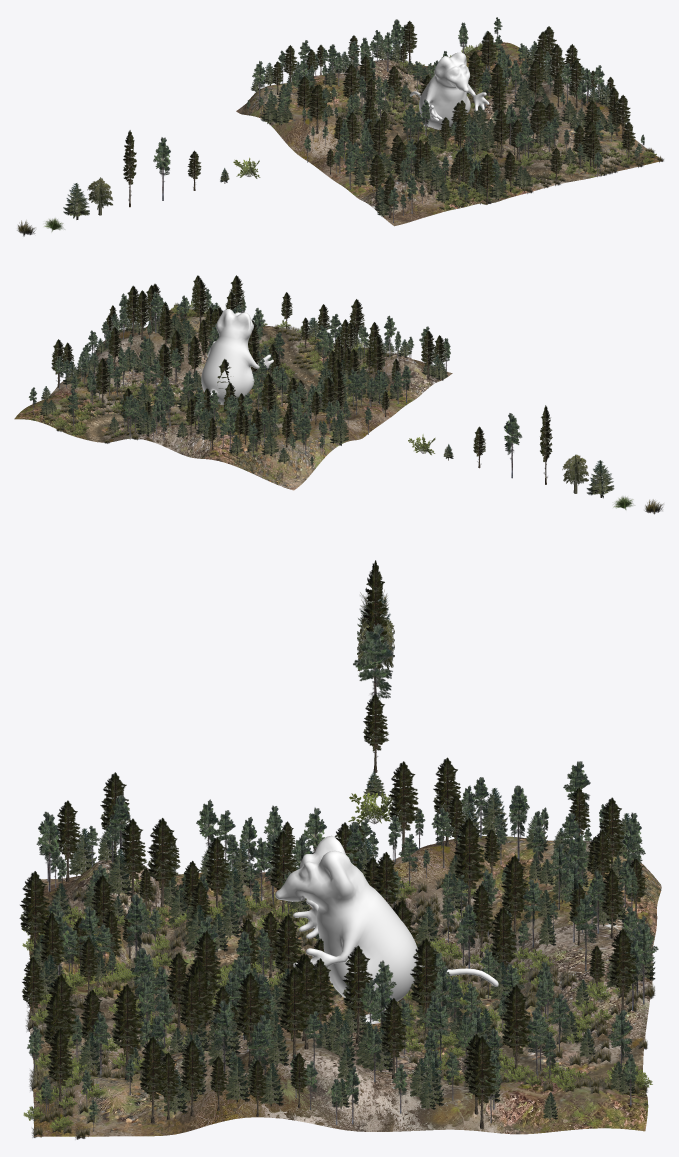
File: porject_test.glb
3 renders of one model, top to bottom at view 1: azimuth 30°, elevation 25°; view 2: azimuth 150°, elevation 25°; view 3: azimuth 270°, elevation 25°, orthographic. The views are drawn at different scales.
Visible parts, largest first — view 1: Plane.002, Group3152, Plane.005, Plane.006, Cylinder.001, 05ade0e713892be558511d706fa6c547-no-bg-preview (carve.photos, Cylinder.034, Cylinder.007, Cylinder.049, Cylinder.070, Cylinder.058, Cylinder.004 (+9 smaller); view 2: Plane.002, Group3152, Plane.006, Plane.005, Cylinder.001, 05ade0e713892be558511d706fa6c547-no-bg-preview (carve.photos, Cylinder.071, Cylinder.026, Cylinder.073, Cylinder.070, Cylinder.004, Cylinder.012 (+2 smaller); view 3: Plane.002, Group3152, 05ade0e713892be558511d706fa6c547-no-bg-preview (carve.photos (×2), Cylinder.077, Cylinder.026, Cylinder.071, Cylinder.012, Cylinder.007, Cylinder.070, Cylinder.085, Cylinder.034, Cylinder.058 (+28 smaller).
Part boxes in pixels (x1,y1,x2,y2): Plane.002: (236, 42, 662, 226); Group3152: (409, 52, 489, 129); Plane.005: (63, 183, 89, 219); Plane.006: (87, 177, 113, 215); Cylinder.001: (123, 130, 136, 207); 05ade0e713892be558511d706fa6c547-no-bg-preview (carve.photos: (153, 137, 170, 200); Cylinder.034: (478, 154, 495, 203); Cylinder.007: (309, 84, 325, 133); Cylinder.049: (493, 110, 509, 158); Cylinder.070: (480, 31, 496, 72); Cylinder.058: (467, 51, 483, 102); Cylinder.004: (368, 154, 384, 202); Plane.002: (14, 306, 452, 490); Group3152: (194, 309, 273, 415); Plane.006: (562, 454, 588, 493); Plane.005: (586, 460, 614, 498); Cylinder.001: (539, 405, 552, 484); 05ade0e713892be558511d706fa6c547-no-bg-preview (carve.photos: (504, 413, 522, 478); Cylinder.071: (193, 279, 208, 328); Cylinder.026: (261, 373, 277, 414); Cylinder.073: (134, 290, 150, 339); Cylinder.070: (95, 358, 110, 407); Cylinder.004: (421, 330, 436, 379); Cylinder.012: (370, 335, 385, 375); Plane.002: (29, 836, 661, 1136); Group3152: (275, 835, 498, 1024); 05ade0e713892be558511d706fa6c547-no-bg-preview (carve.photos (×2): (125, 623, 393, 957); Cylinder.077: (278, 967, 309, 1062); Cylinder.026: (453, 817, 486, 904); Cylinder.071: (111, 984, 143, 1080); Cylinder.012: (147, 818, 179, 913); Cylinder.007: (388, 761, 420, 857); Cylinder.070: (501, 985, 532, 1076); Cylinder.085: (467, 1036, 497, 1129); Cylinder.034: (19, 871, 50, 959); Cylinder.058: (410, 938, 440, 1036).
Size of the model in its own units: 19.24 by 3.01 by 9.74.
Materials: 4 (3 with a texture image).
